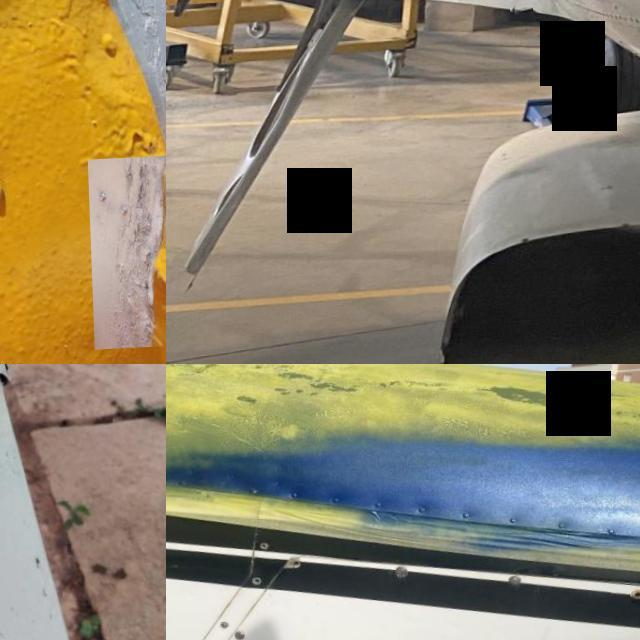Crack: (507, 0, 532, 24)
Dent: (86, 155, 166, 352)
Missing_Fastener: (627, 595, 640, 606), (288, 563, 299, 572), (249, 579, 260, 588), (258, 544, 267, 552), (175, 484, 182, 488)
